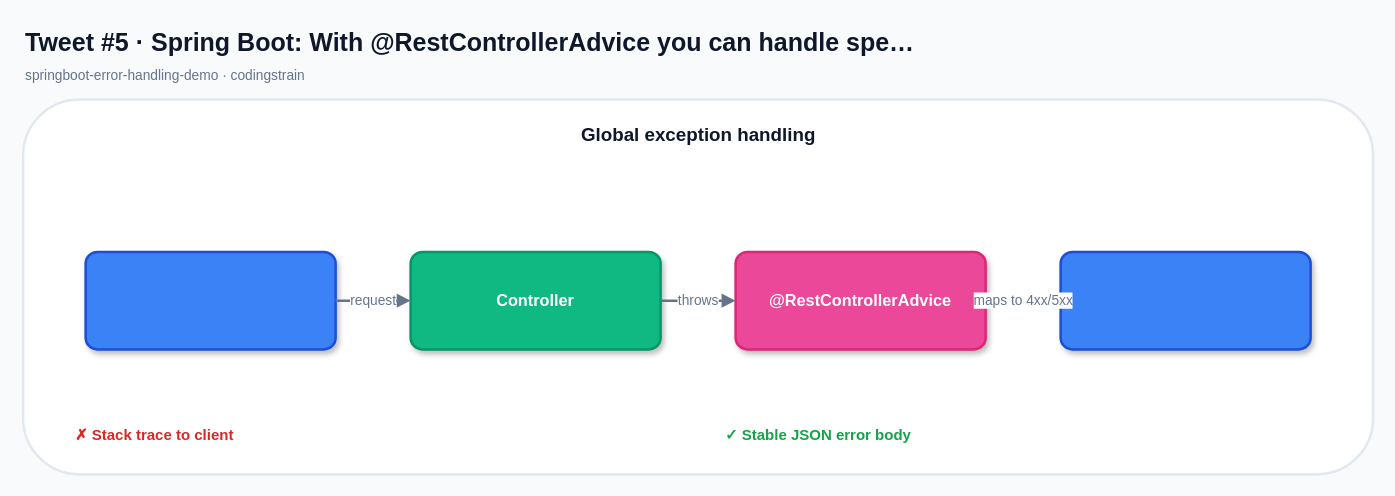
This 1395x496 diagram has some shape labels left out. Here are the shapes that lost their labels. From the top down, the centre of each, then its label:
the point at 211,302: HTTP Client
the point at 1186,302: ErrorResponse JSON
